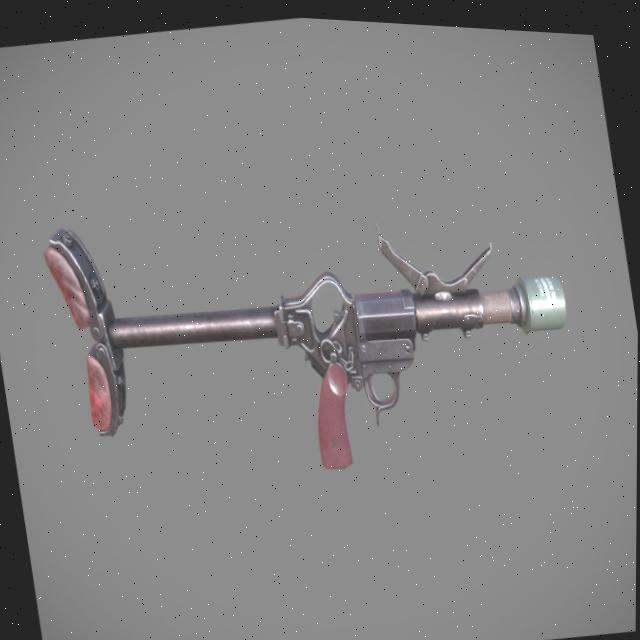grenade: (507, 257, 578, 330)
pistol: (38, 156, 532, 507)
